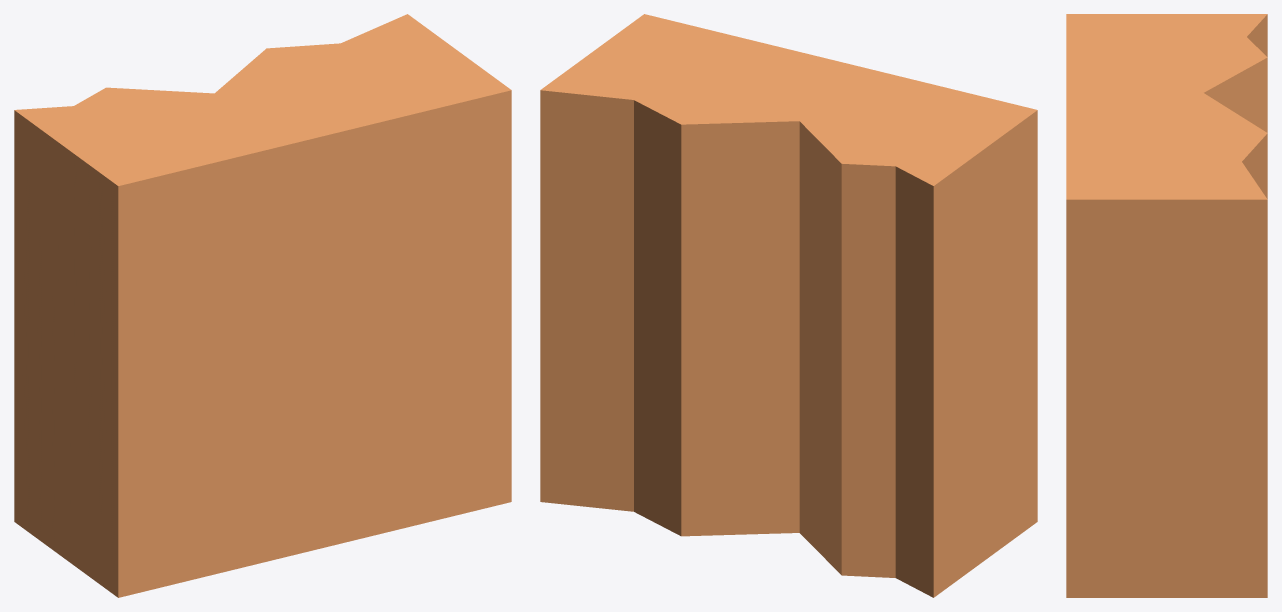
File: cliffBrown.obj
The picture shows the model from 3 angles, left to right: view 1: azimuth 30°, elevation 25°; view 2: azimuth 150°, elevation 25°; view 3: azimuth 270°, elevation 25°; orthographic projection. The views are drawn at different scales.
Parts seen in each view (by area): view 1: cliffBrown; view 2: cliffBrown; view 3: cliffBrown.
Part boxes in pixels (box(x1,y1,x2,y2)): cliffBrown: box(14, 14, 511, 597); cliffBrown: box(540, 14, 1037, 597); cliffBrown: box(1066, 14, 1267, 597).
Bounding box in the file's own units: 10 × 10 × 4.58.
